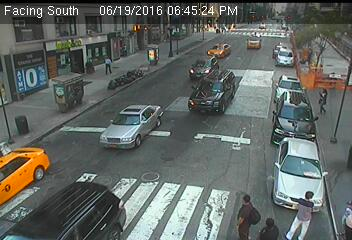neg: (275, 38, 306, 80), (30, 156, 61, 197), (112, 134, 138, 169), (204, 85, 228, 117), (311, 46, 328, 68), (166, 95, 181, 115)
pos: (289, 186, 328, 237), (219, 190, 256, 239), (330, 193, 351, 239), (312, 83, 336, 115), (259, 212, 278, 238), (98, 52, 116, 76)
